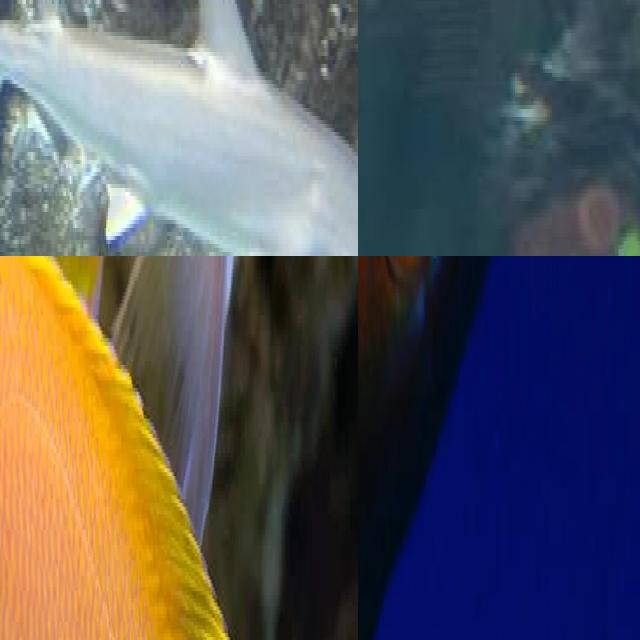fish: (358, 256, 640, 640), (0, 0, 358, 256), (0, 256, 189, 640)
